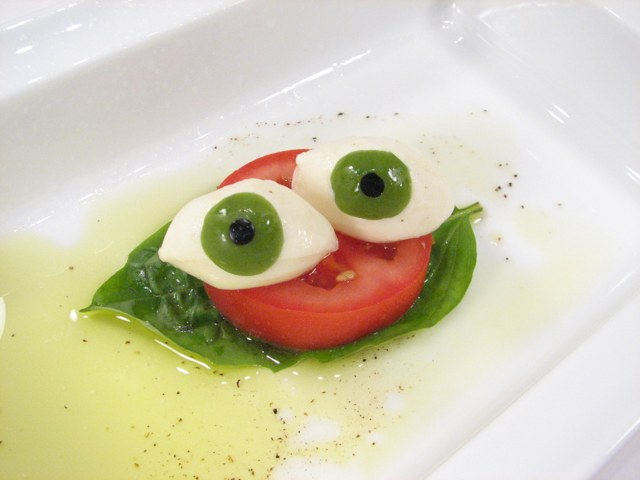tomato: (205, 152, 431, 347)
